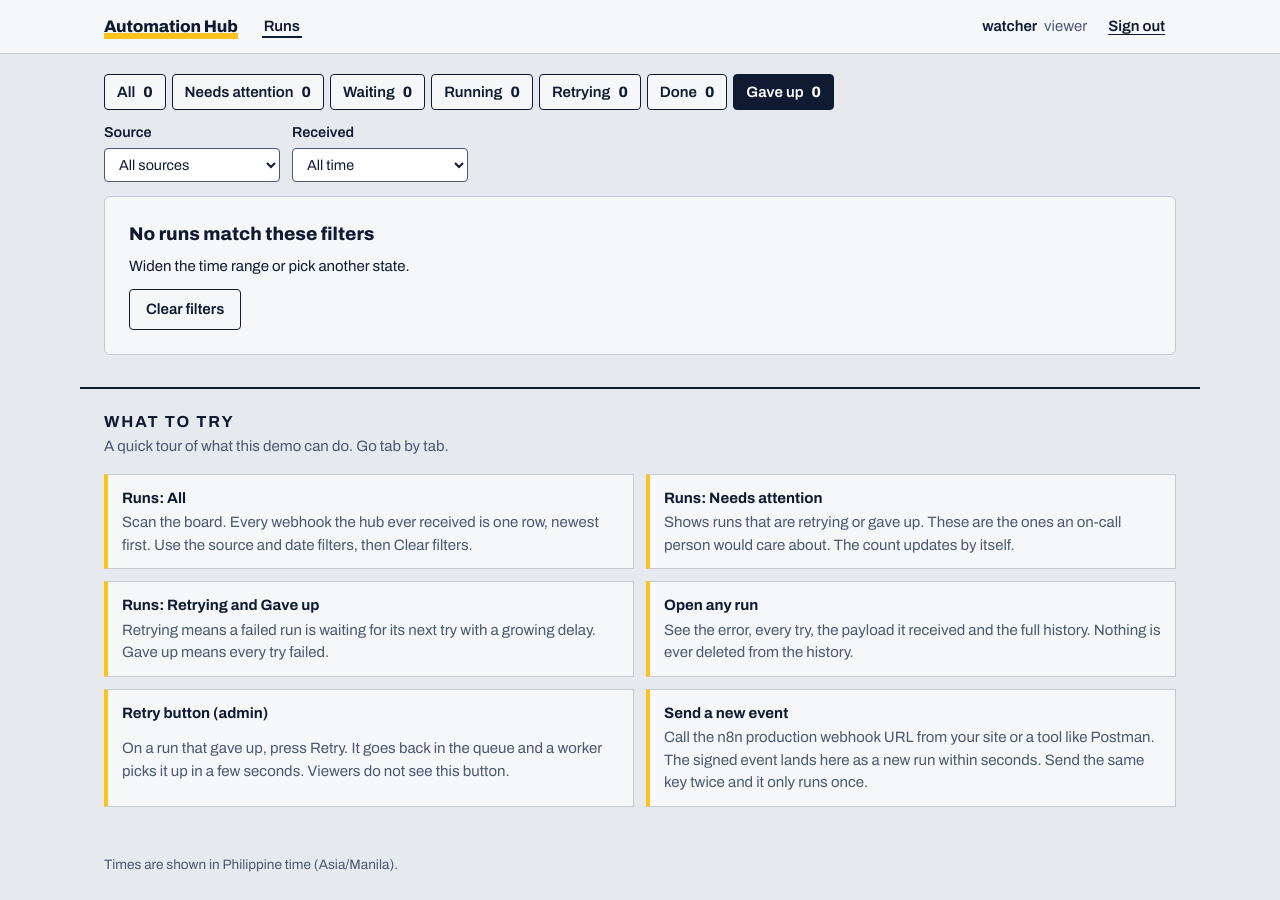
Test case: the runs board › offers a way out when filters hide everything
Expected: the text "No runs match these filters" is shown, x1=129 y1=224 x2=374 y2=244
What coordinates should you click on to do the following:
click the button "Clear filters"
I would click on:
 (185, 309)
Its box is x1=129 y1=289 x2=241 y2=330.
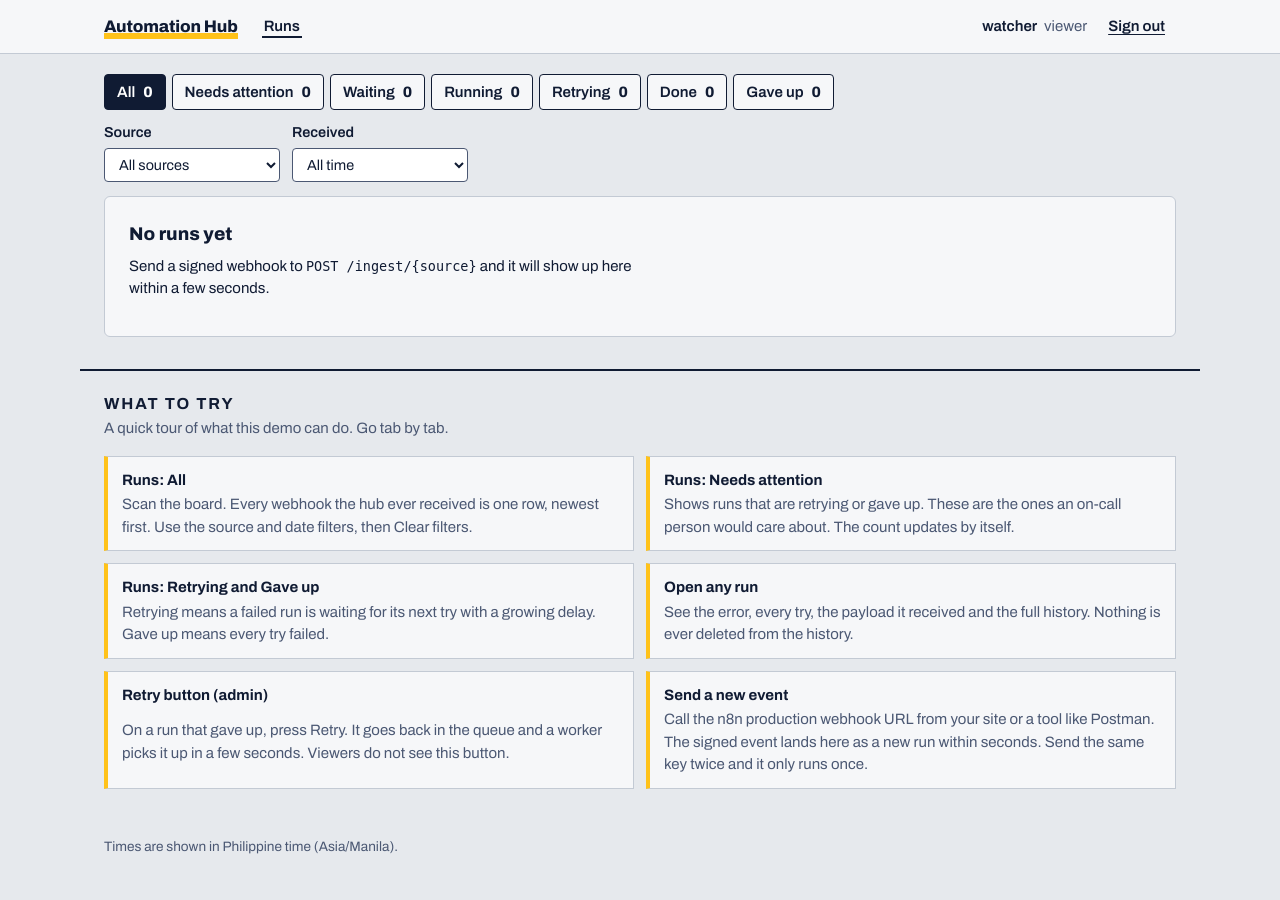
Expected: the text "No runs yet" is shown, x1=129 y1=224 x2=232 y2=244
